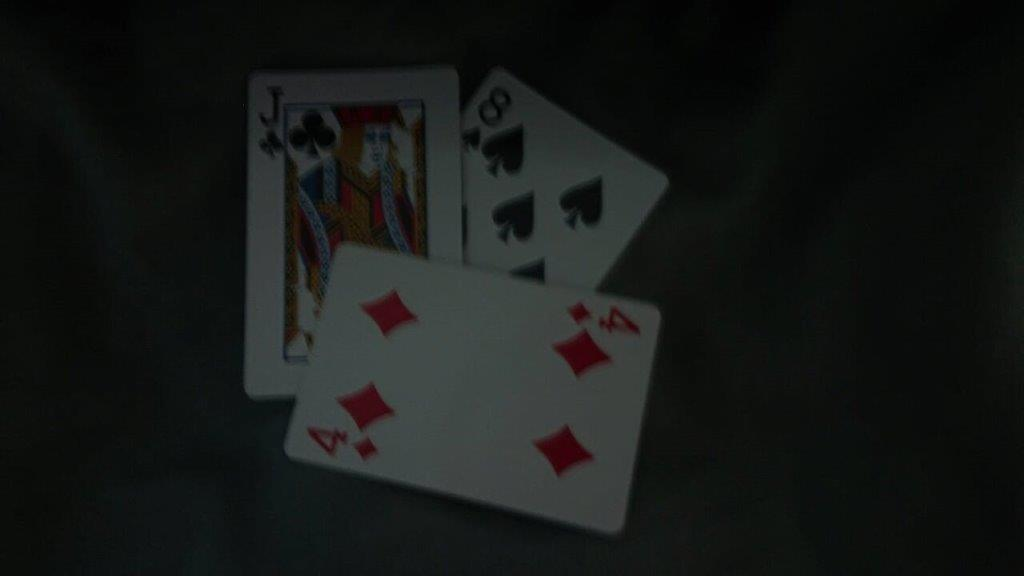8S: (460, 83, 517, 167)
JC: (255, 79, 297, 164)
